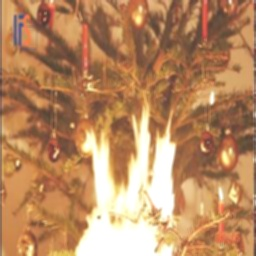fire: (75, 112, 195, 254)
